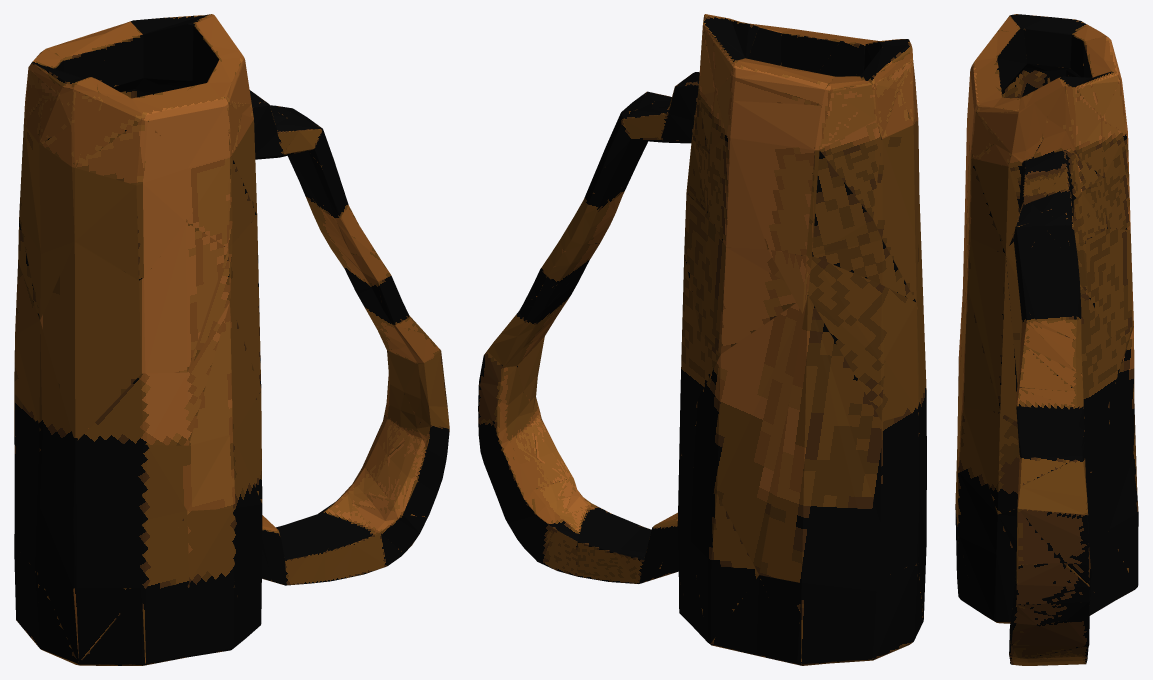
The picture shows the model from 3 angles, left to right: view 1: azimuth 30°, elevation 25°; view 2: azimuth 150°, elevation 25°; view 3: azimuth 270°, elevation 25°; orthographic projection. The views are drawn at different scales.
Visible parts, largest first — view 1: OBJ08d; view 2: OBJ08d; view 3: OBJ08d.
Boxes of the visible parts, bbox=[...] form: OBJ08d: bbox=[14, 14, 449, 665]; OBJ08d: bbox=[478, 14, 926, 665]; OBJ08d: bbox=[955, 14, 1138, 665].
Bounding box in the file's own units: 0.2115 × 0.2951 × 0.0916.
Materials: 1 (1 with a texture image).
